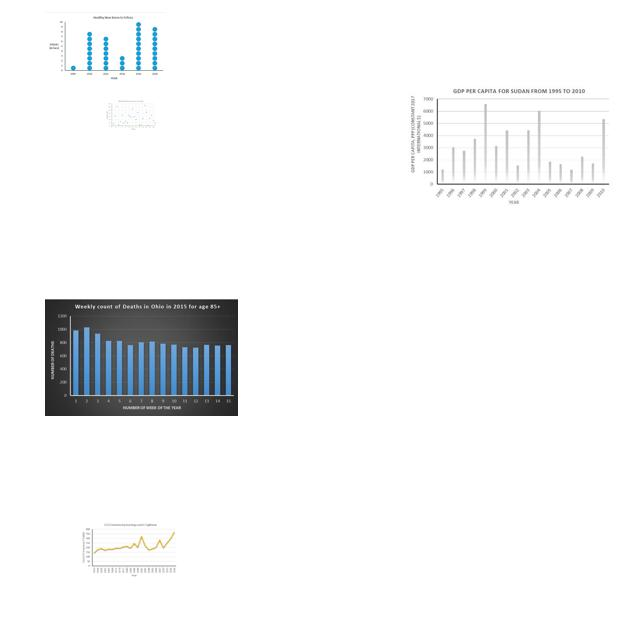Graph: (408, 86, 612, 206), (45, 299, 238, 416), (45, 12, 166, 83), (81, 522, 177, 578), (106, 100, 157, 130)
